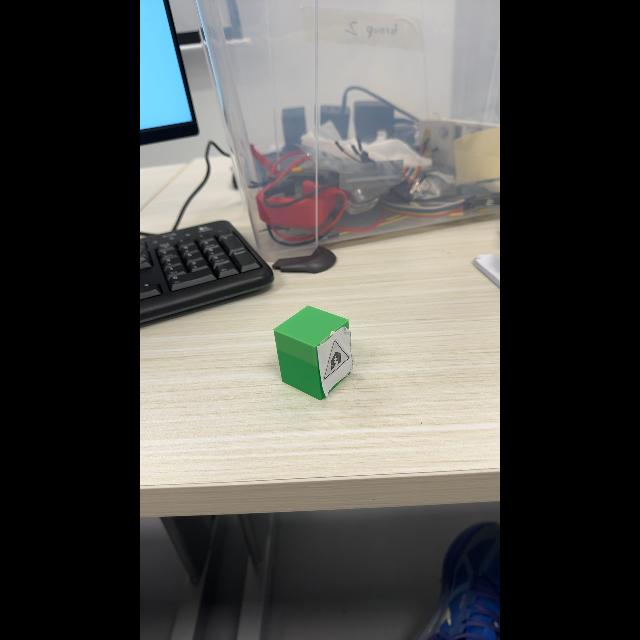Earthquake: (324, 340, 349, 379)
